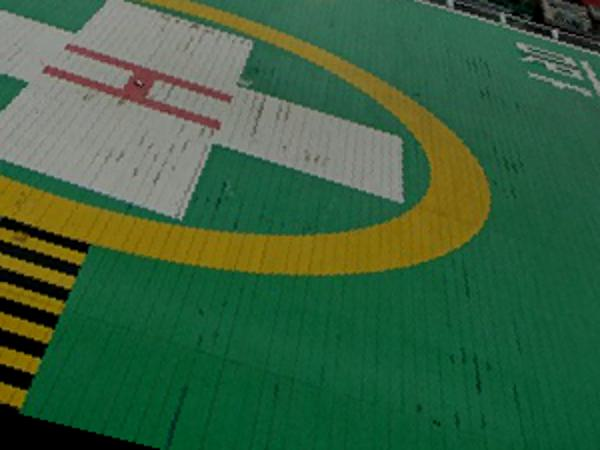Apron: (1, 1, 512, 281)
